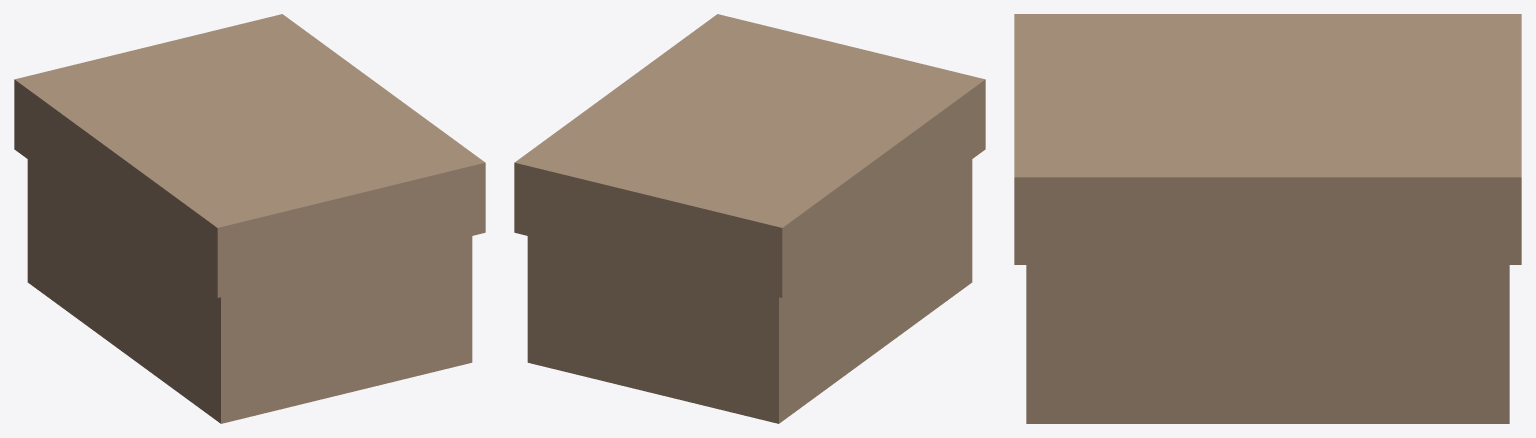
The model's file is nordic_house.glb.
3 renders of one model, left to right at view 1: azimuth 30°, elevation 25°; view 2: azimuth 150°, elevation 25°; view 3: azimuth 270°, elevation 25°, orthographic. The views are drawn at different scales.
Parts seen in each view (by area): view 1: nordic_house; view 2: nordic_house; view 3: nordic_house.
Boxes of the visible parts, bbox=[...] form: nordic_house: bbox=[14, 14, 485, 423]; nordic_house: bbox=[514, 14, 985, 423]; nordic_house: bbox=[1014, 14, 1521, 423].
Size of the model in its own units: 6.4 by 4.6 by 8.4.
